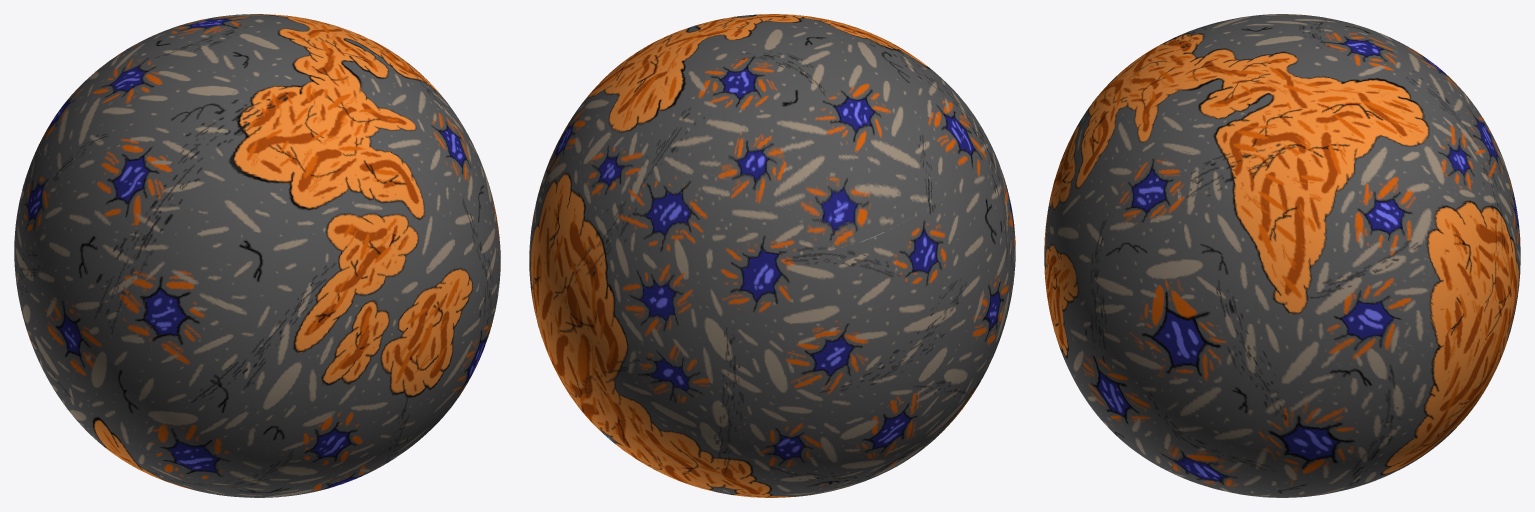
File: oslo.glb
The picture shows the model from 3 angles, left to right: view 1: azimuth 30°, elevation 25°; view 2: azimuth 150°, elevation 25°; view 3: azimuth 270°, elevation 25°; orthographic projection.
Visible parts, largest first — view 1: Sphere_mat0_Sphere; view 2: Sphere_mat0_Sphere; view 3: Sphere_mat0_Sphere.
Boxes of the visible parts, x1,y1,x2,y2 form: Sphere_mat0_Sphere: (14, 14, 500, 497); Sphere_mat0_Sphere: (529, 14, 1015, 497); Sphere_mat0_Sphere: (1044, 14, 1520, 497).
Bounding box in the file's own units: 0.8395 × 0.8395 × 0.8395.
Materials: 1 (1 with a texture image).
